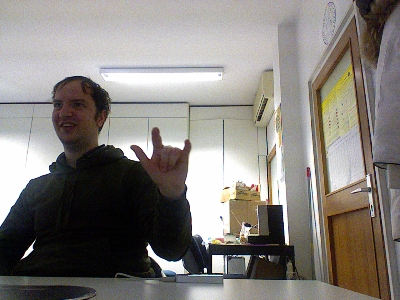我爱你: (128, 126, 191, 190)
